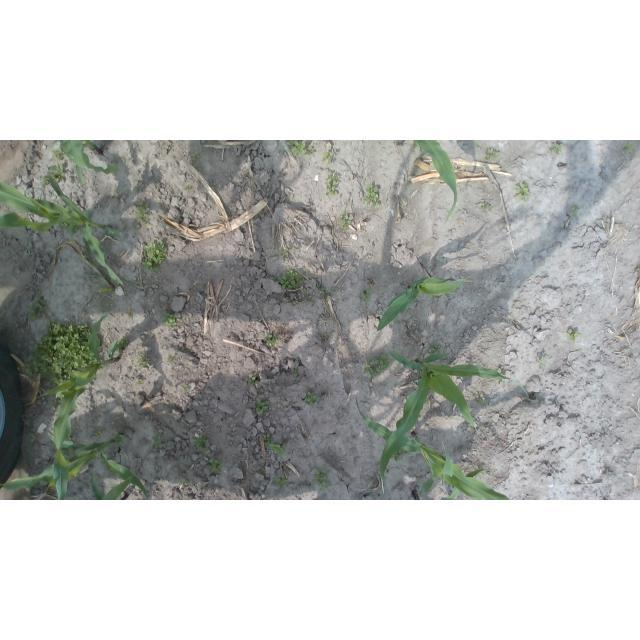Maize: (379, 347, 530, 486), (35, 310, 121, 500), (355, 396, 511, 500), (1, 172, 126, 292), (0, 432, 148, 499), (367, 273, 473, 334), (398, 140, 460, 226), (57, 140, 126, 185), (88, 469, 133, 500), (410, 485, 423, 500)
Weeds: (16, 323, 101, 390), (140, 240, 169, 272), (363, 354, 391, 379), (278, 268, 303, 290), (282, 290, 314, 307), (43, 163, 66, 185), (26, 298, 48, 321), (263, 435, 286, 456), (290, 140, 315, 156), (314, 471, 332, 492), (136, 203, 151, 228), (325, 172, 340, 197), (317, 284, 346, 296), (363, 184, 379, 205), (514, 184, 531, 203), (194, 435, 209, 454), (275, 246, 293, 261), (255, 398, 270, 414), (61, 221, 78, 235), (136, 353, 151, 368), (208, 459, 224, 473), (392, 447, 407, 461), (116, 336, 129, 352), (305, 391, 318, 407), (163, 310, 176, 326), (484, 148, 500, 160), (263, 335, 280, 346), (340, 214, 353, 227), (567, 330, 579, 343), (496, 369, 506, 384), (52, 148, 65, 159), (550, 143, 563, 154), (429, 345, 443, 354), (153, 436, 163, 448), (362, 289, 372, 301), (475, 394, 485, 406), (276, 478, 289, 487), (624, 142, 635, 152), (324, 151, 333, 163), (248, 378, 259, 387), (192, 150, 201, 160), (167, 354, 177, 363), (30, 433, 38, 443), (292, 369, 301, 377), (482, 203, 491, 211), (571, 207, 579, 216), (413, 140, 421, 148), (538, 358, 545, 367), (184, 185, 192, 192), (182, 385, 190, 392), (94, 431, 102, 438), (138, 378, 143, 384), (636, 267, 640, 273)
